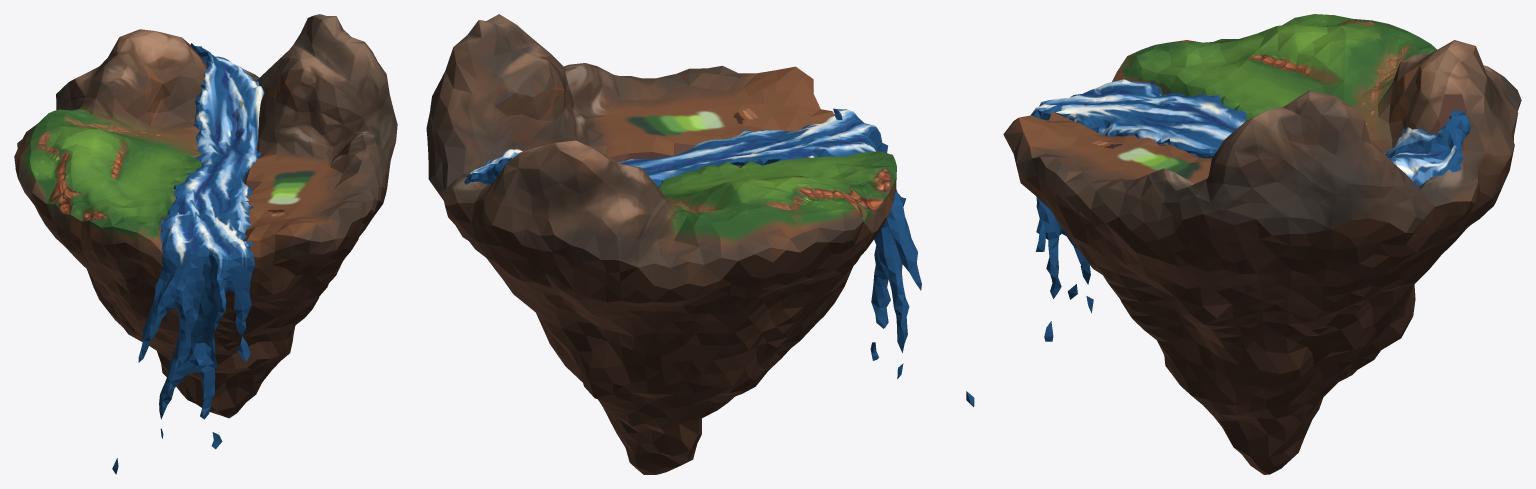
File: floating-island-3.glb
3 renders of one model, left to right at view 1: azimuth 30°, elevation 25°; view 2: azimuth 150°, elevation 25°; view 3: azimuth 270°, elevation 25°, orthographic. The views are drawn at different scales.
Visible parts, largest first — view 1: WorldTop, WorldRiver, WorldBottom; view 2: WorldTop, WorldBottom, WorldRiver, WorldRiverBed; view 3: WorldTop, WorldBottom, WorldRiver, WorldRiverBed.
Part boxes in pixels (left/top/right/bottom): WorldTop: left=14, top=14, right=397, bottom=268; WorldRiver: left=112, top=43, right=264, bottom=474; WorldBottom: left=30, top=172, right=389, bottom=418; WorldTop: left=426, top=14, right=896, bottom=289; WorldBottom: left=432, top=184, right=887, bottom=474; WorldRiver: left=464, top=108, right=974, bottom=406; WorldRiverBed: left=482, top=143, right=740, bottom=189; WorldTop: left=1003, top=14, right=1521, bottom=239; WorldBottom: left=1021, top=146, right=1514, bottom=474; WorldRiver: left=1031, top=79, right=1470, bottom=341; WorldRiverBed: left=1159, top=94, right=1467, bottom=161.
Size of the model in its own units: 15.35 by 15.18 by 15.72.
Materials: 4 (2 with a texture image).
